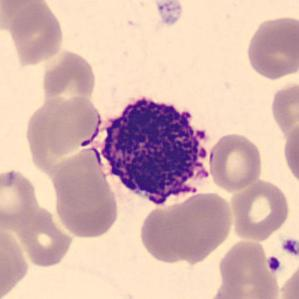Basophil: (85, 89, 219, 212)
Platelets: (152, 1, 184, 28), (280, 236, 298, 258), (266, 254, 282, 274)
RBC: (45, 150, 126, 241), (163, 190, 235, 260), (11, 210, 80, 271), (228, 177, 292, 242), (7, 1, 66, 66), (244, 14, 297, 82), (44, 94, 103, 155), (207, 131, 265, 193), (215, 232, 273, 294), (137, 204, 190, 264), (40, 48, 98, 100), (0, 167, 41, 231), (0, 225, 33, 299), (268, 80, 298, 140), (212, 274, 279, 299), (0, 0, 46, 36), (281, 119, 299, 188), (275, 265, 299, 299)
